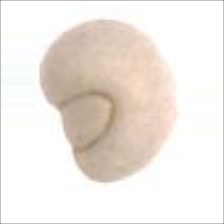L5: (56, 90, 117, 155)
L6: (38, 18, 178, 184)
